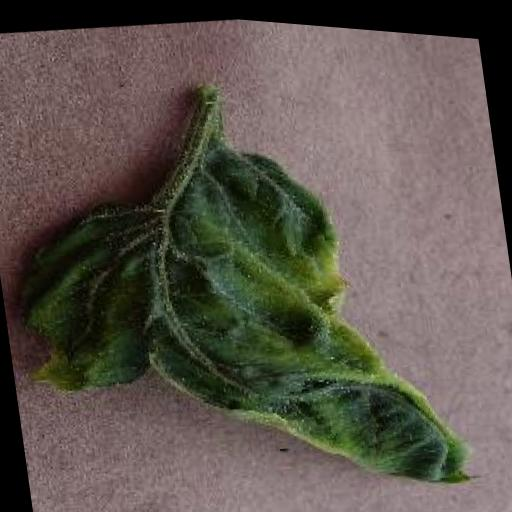Yellow Leaf Curl Virus: (1, 97, 481, 512)
